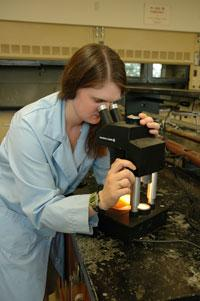person: (1, 42, 160, 298)
